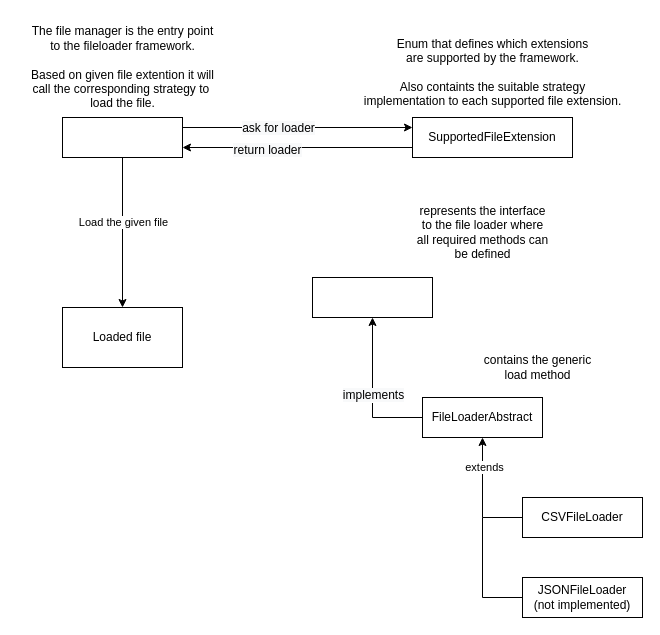
Some shapes in this 660 by 635 pixel diagram are drawn without their labels. Each missing label, with the centre of its shape:
FileLoaderManager: (x=122, y=137)
IFileLoader: (x=372, y=297)
